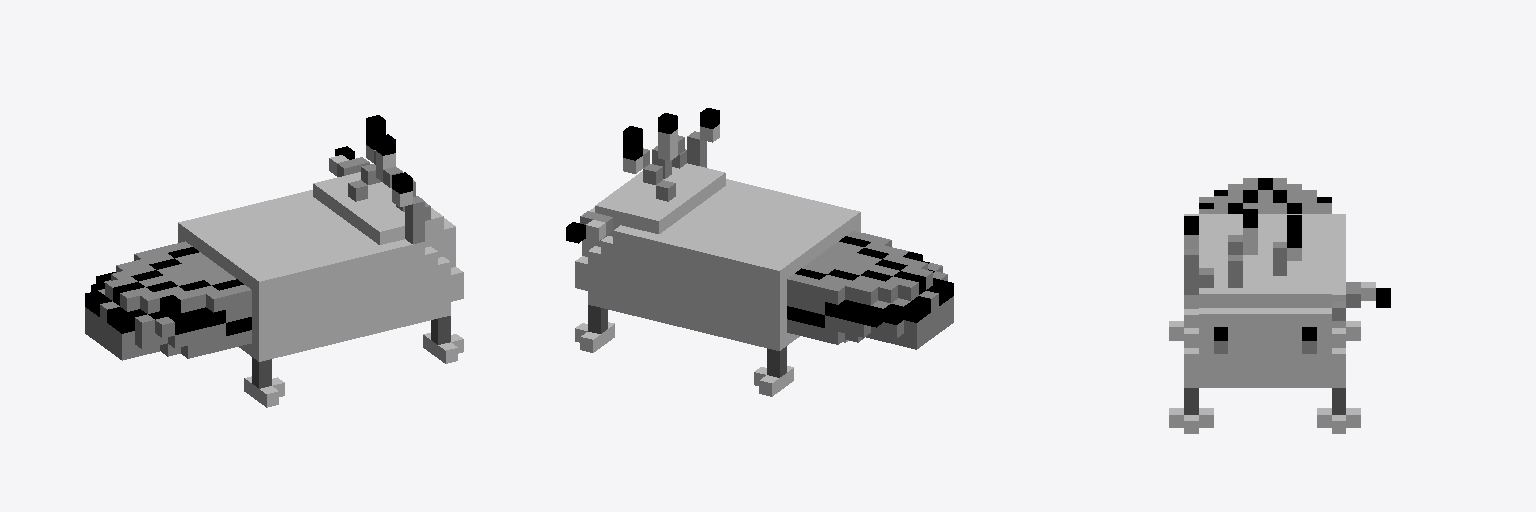
3 renders of one model, left to right at view 1: azimuth 30°, elevation 25°; view 2: azimuth 150°, elevation 25°; view 3: azimuth 270°, elevation 25°, orthographic.
Visible parts, largest first — view 1: object 1; view 2: object 1; view 3: object 1.
Boxes of the visible parts, x1=… form: object 1: x1=85, y1=115, x2=463, y2=407; object 1: x1=566, y1=108, x2=953, y2=396; object 1: x1=1169, y1=178, x2=1390, y2=433.
Bounding box in the file's own units: 2.5 × 1.5 × 1.5.
1 materials, 1 textured.